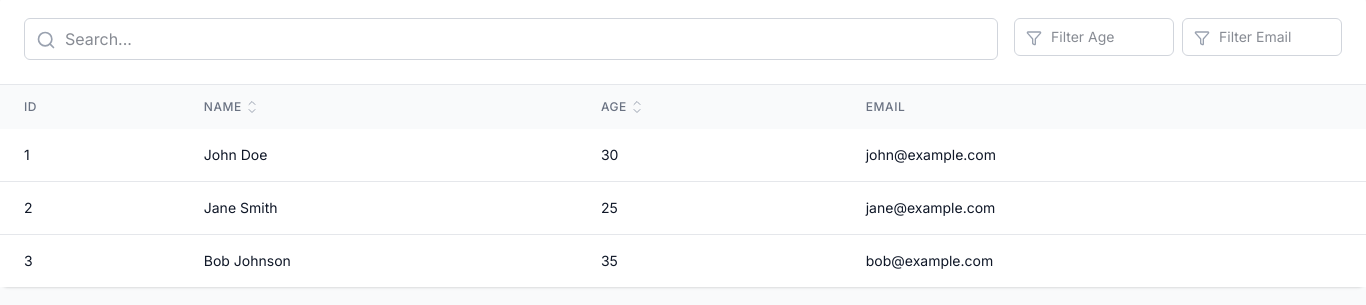
Test case: DataTable Component › should filter data based on column filters
Type "30" into the field with placeholder "Filter Age" at (1094, 37), box [1014,18,1174,56]
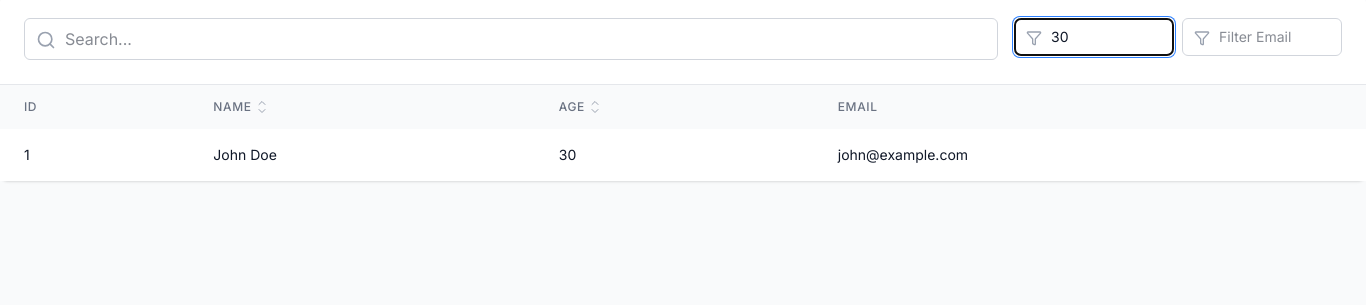
Expected: the text "John Doe" is shown, [189,129,535,181]
Expected: the text "Jane Smith" is gone
Expected: the text "Bob Johnson" is gone
